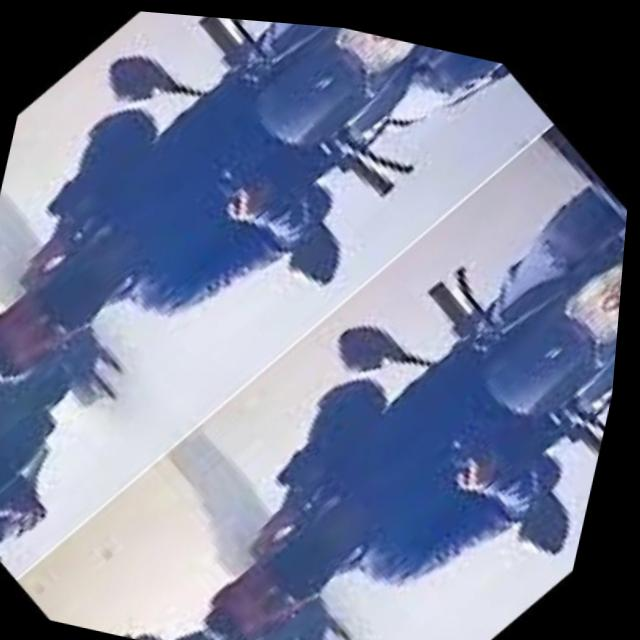USING_MOBILE: (199, 338, 430, 587), (0, 73, 198, 328)
